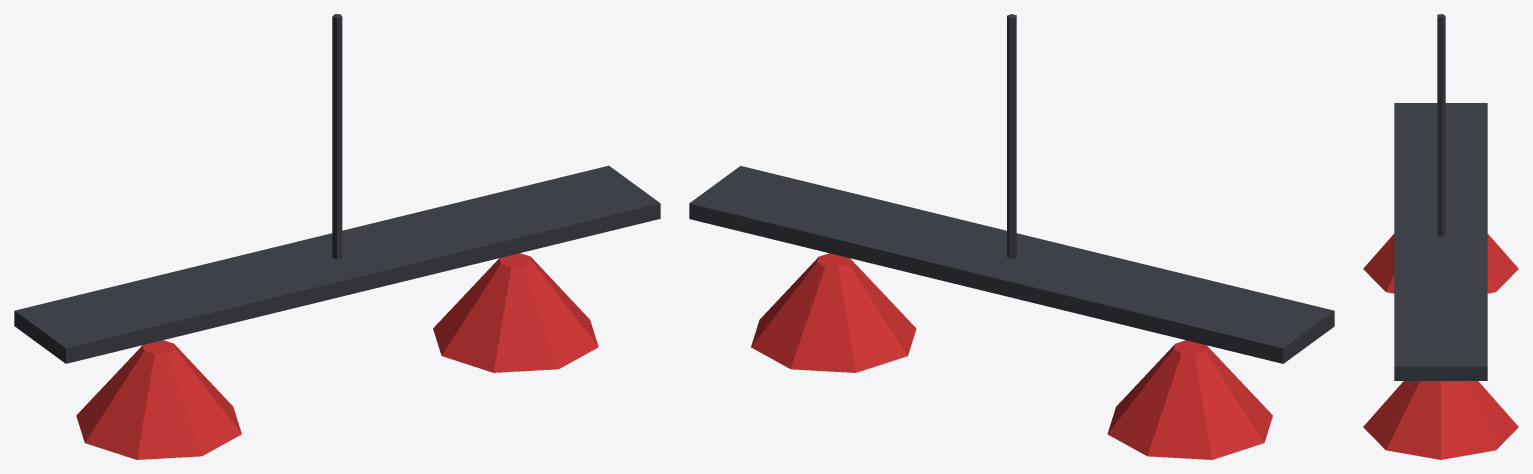
The model's file is pool_lamp.glb.
The picture shows the model from 3 angles, left to right: view 1: azimuth 30°, elevation 25°; view 2: azimuth 150°, elevation 25°; view 3: azimuth 270°, elevation 25°; orthographic projection. The views are drawn at different scales.
Visible parts, largest first — view 1: pool_lamp; view 2: pool_lamp; view 3: pool_lamp.
Boxes of the visible parts, x1,y1,x2,y2 form: pool_lamp: [14, 14, 660, 459]; pool_lamp: [689, 14, 1334, 459]; pool_lamp: [1363, 14, 1518, 459].
Size of the model in its own units: 2 by 1.18 by 0.5.
